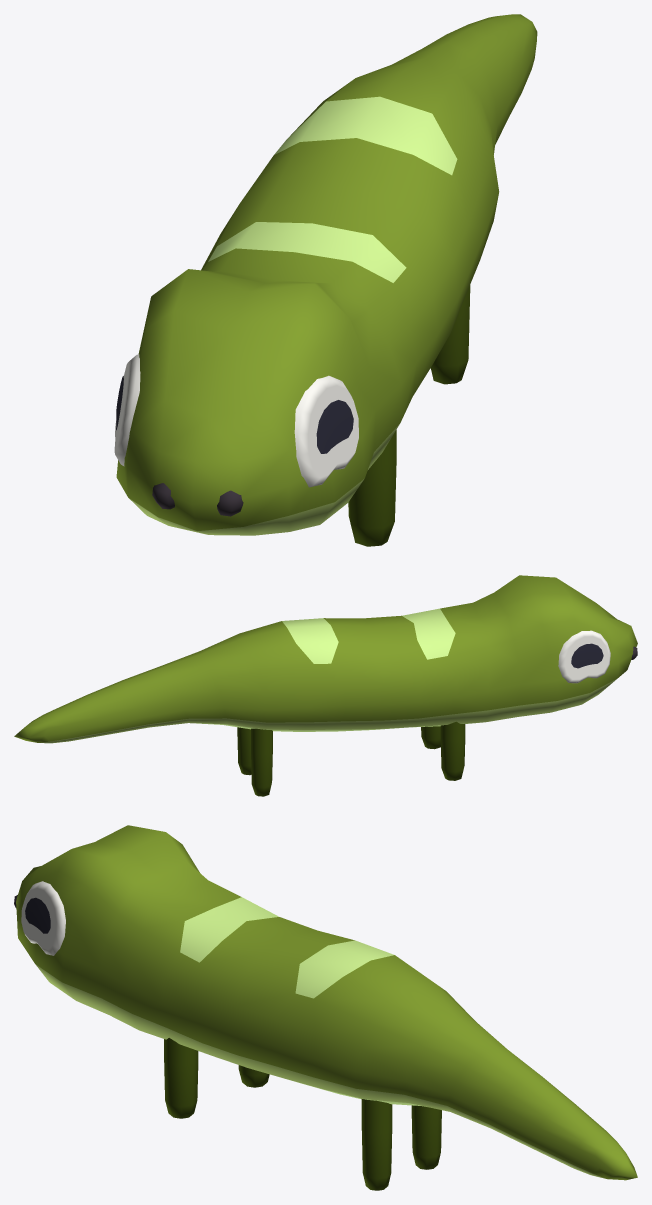
Rendered from Lizard.glb.
3 views of the same model, one above another, from view 1: azimuth 30°, elevation 25°; view 2: azimuth 150°, elevation 25°; view 3: azimuth 270°, elevation 25° (orthographic). The views are drawn at different scales.
Parts seen in each view (by area): view 1: Gecko_LOD1.004; view 2: Gecko_LOD1.004; view 3: Gecko_LOD1.004.
Boxes of the visible parts, box(x1,y1,x2,y2) form: Gecko_LOD1.004: box(114, 14, 537, 546); Gecko_LOD1.004: box(14, 575, 637, 796); Gecko_LOD1.004: box(14, 825, 637, 1190).
Bounding box in the file's own units: 1.02 × 0.3993 × 1.02.
Materials: 1 (1 with a texture image).
